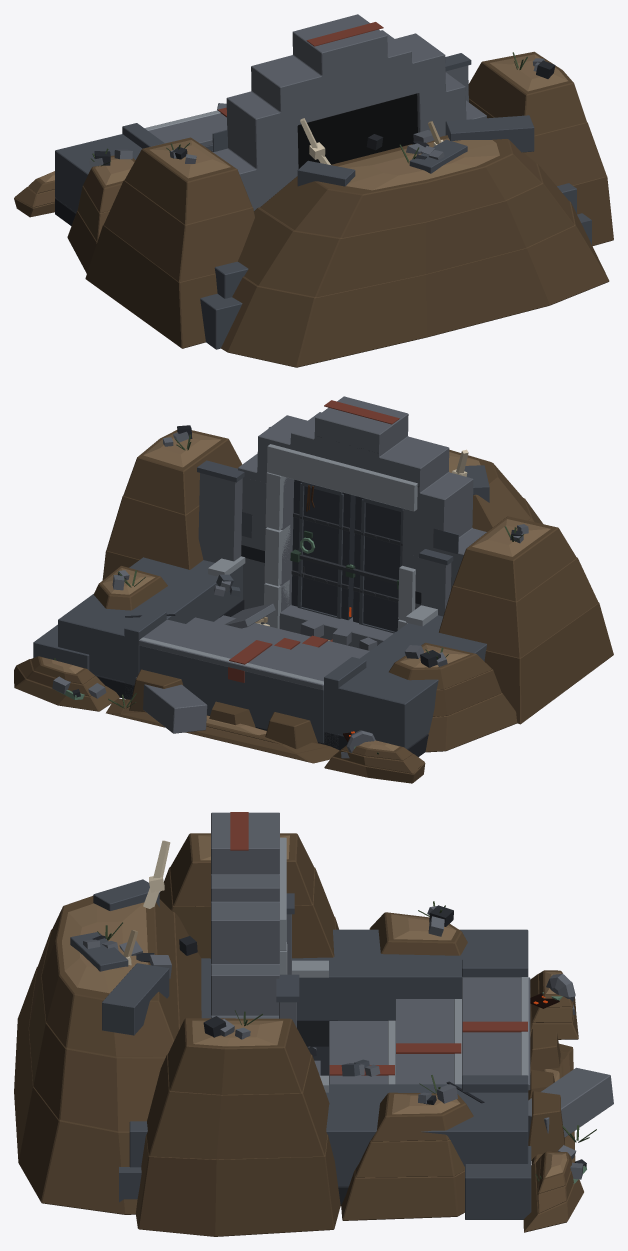
File: creep_den.glb
3 views of the same model, one above another, from view 1: azimuth 30°, elevation 25°; view 2: azimuth 150°, elevation 25°; view 3: azimuth 270°, elevation 25° (orthographic). The views are drawn at different scales.
Visible parts, largest first — view 1: DG-主体, DG-team; view 2: DG-主体, DG-team; view 3: DG-主体, DG-team.
Boxes of the visible parts, box(x1,y1,x2,y2) form: DG-主体: box(14, 14, 613, 367); DG-team: box(218, 22, 383, 117); DG-主体: box(14, 396, 613, 783); DG-team: box(228, 400, 399, 682); DG-主体: box(14, 812, 613, 1236); DG-team: box(230, 812, 527, 1075).
Size of the model in its own units: 10.08 by 4.94 by 9.93.
4 materials, 2 textured.
